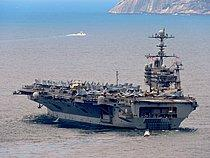MIL_Ship: (16, 27, 199, 131)
